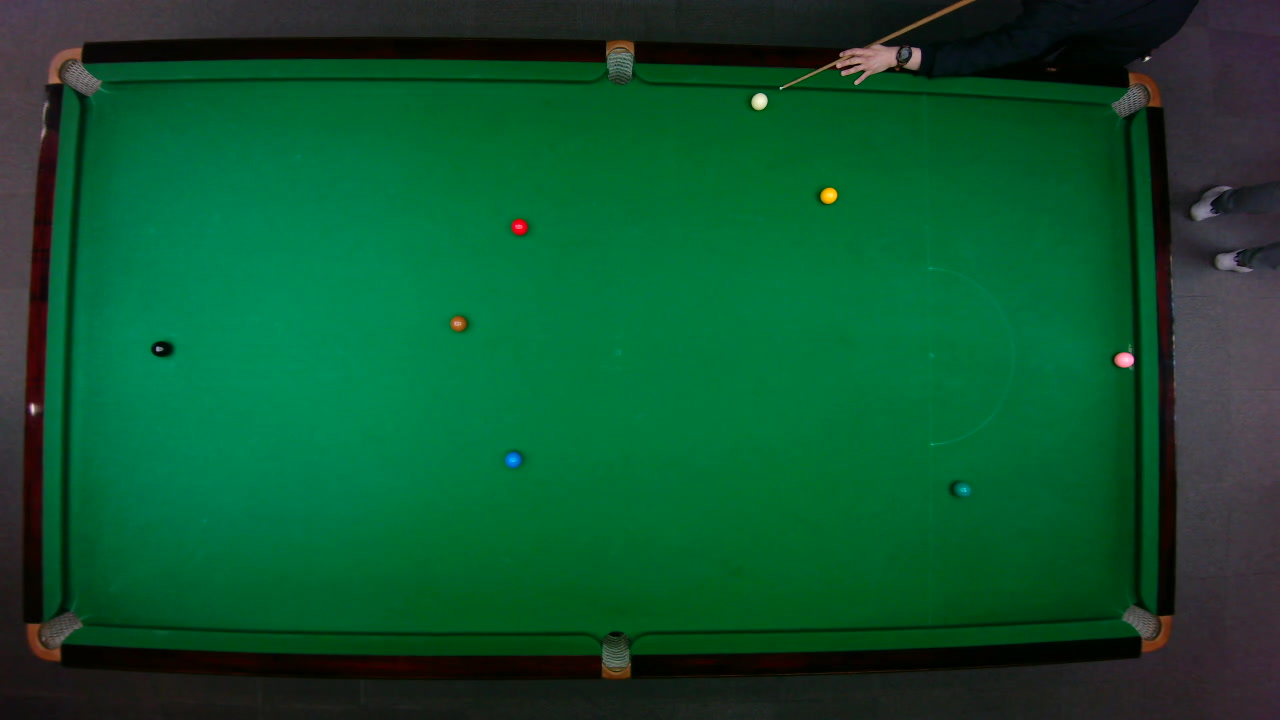bag: (25, 609, 83, 661), (46, 46, 102, 96), (1119, 603, 1172, 652), (1109, 71, 1161, 118), (600, 629, 629, 680), (605, 38, 633, 85)
black: (149, 339, 171, 357)
blue: (504, 450, 522, 468)
brown: (449, 314, 467, 332)
cue: (777, 0, 971, 91)
green: (951, 480, 972, 497)
pink: (1112, 350, 1135, 368)
red: (509, 217, 528, 235)
white: (749, 91, 768, 111)
yellow: (818, 186, 837, 204)
zone: (927, 266, 1013, 445)
